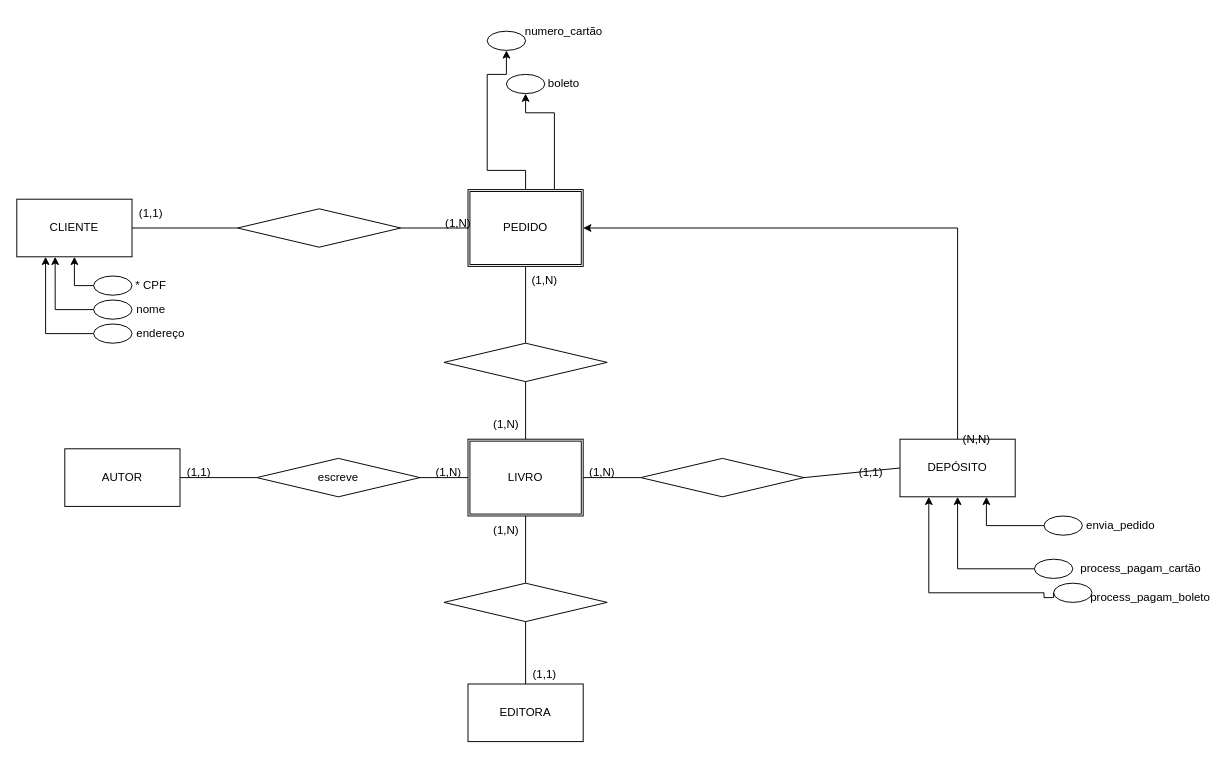
This 1227x758 diagram has some shape labels left out. Each missing label, with the centre of its shape:
contem: [525,362]
faz: [319,227]
guarda: [722,477]
publica: [525,602]
